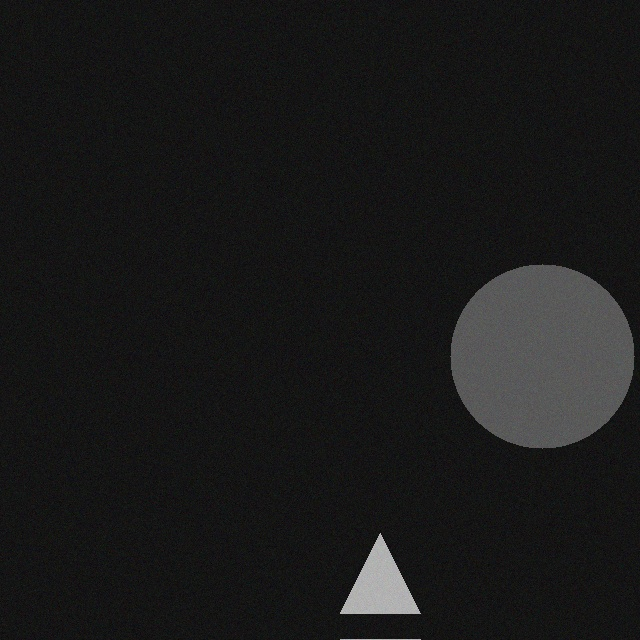circle: (446, 277, 630, 461)
triangle: (336, 546, 416, 626)
